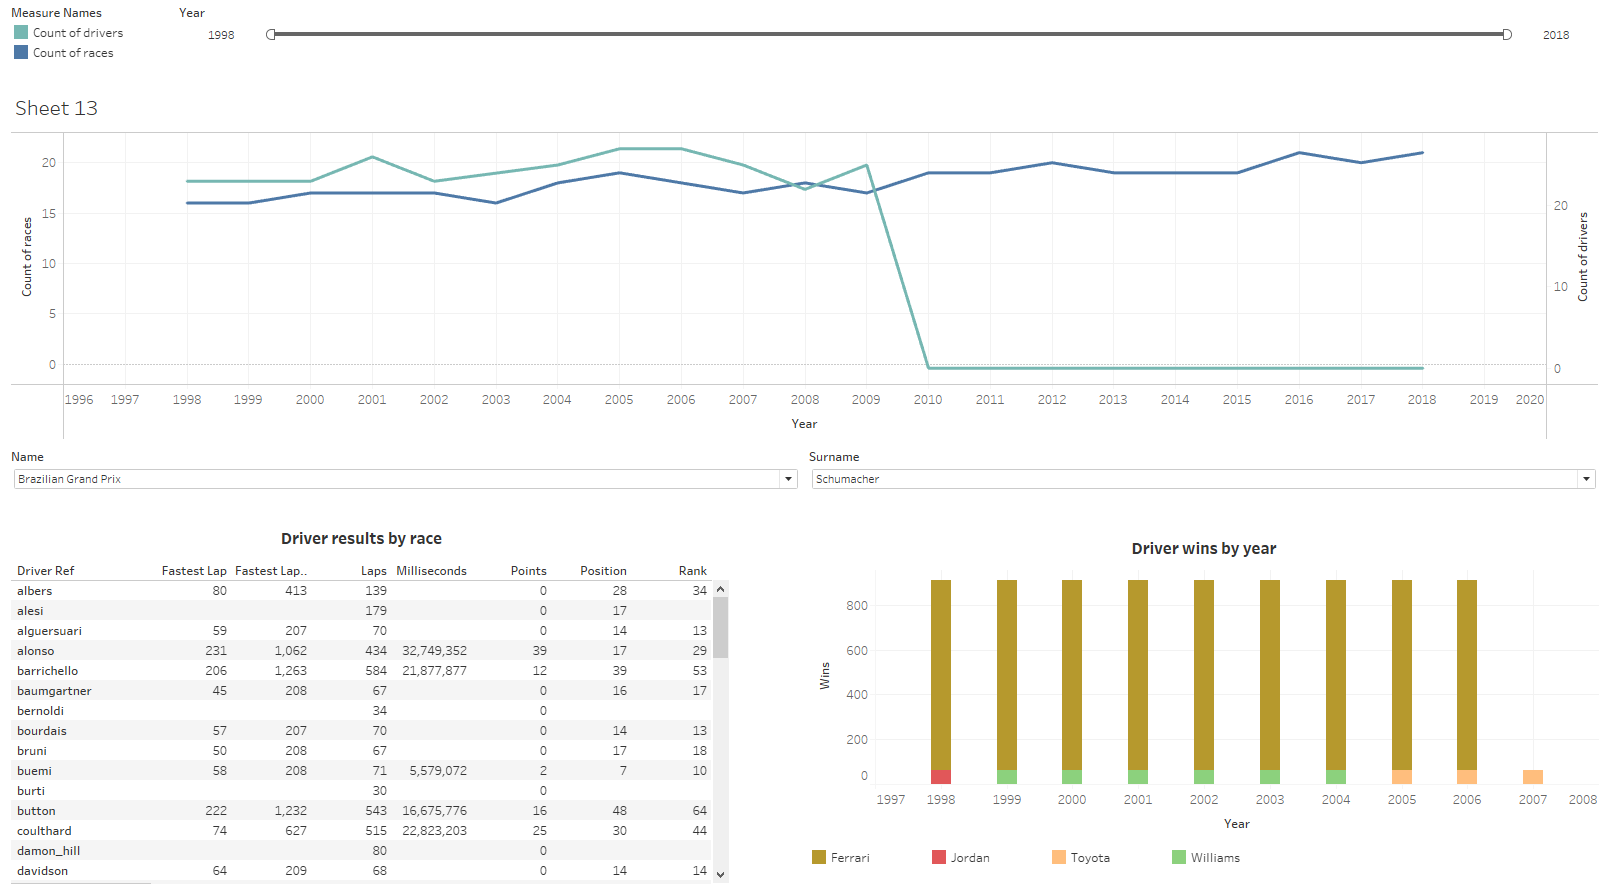

What the dashboard file says about the page in this screenshot:
{"tool":"tableau","page":{"name":"Driver Details","canvas":[1000,1000],"units":"permille","ordinal":2},"visuals":[{"type":"legend","title":"Sheet 13","param":"[federated.1dxn3xd1m3a6sv19biwc20t9l485].[:Measure Names]","box":[5.1,8.8,104.2,94]},{"type":"filter","title":"Sheet 13","param":"[federated.1dxn3xd1m3a6sv19biwc20t9l485].[none:year:qk]","box":[109.2,8.8,885.7,94]},{"type":"worksheet","title":"Sheet 13","mark":"Automatic","rows":["races_E0669E317AAB4FC28C13AFFE63FB9220","drivers_71AE039E2B564C96A3FA26AC88E7A0FC"],"cols":["year"],"box":[5.1,102.8,989.8,397.2]},{"type":"filter","title":"Driver results by race","param":"[federated.1dxn3xd1m3a6sv19biwc20t9l485].[none:name:nk]","box":[5.1,500,494.9,83]},{"type":"filter","title":"Driver wins by year","param":"[federated.1dxn3xd1m3a6sv19biwc20t9l485].[none:surname:nk]","box":[500,500,494.9,94]},{"type":"worksheet","title":"Driver results by race","mark":"Automatic","rows":["surname"],"box":[5.1,583,494.9,408.2]},{"type":"worksheet","title":"Driver wins by year","mark":"Bar","rows":["wins"],"cols":["year"],"box":[500,594,494.9,347.1]},{"type":"legend","title":"Driver wins by year","param":"[federated.1dxn3xd1m3a6sv19biwc20t9l485].[none:name (constructors):nk]","box":[500,941,494.9,50.1]}]}

Visuals, with their boxes on the dashboard's canvas, which has no fixed pixel size, in thousandths of its width and height (x1, y1, x2, y2). These are canvas units, not pixel positions in the 1611x892 screenshot, which may show the page scaled, cropped or inside an application window:
"Sheet 13" legend: detection(5, 9, 109, 103)
"Sheet 13" filter: detection(109, 9, 995, 103)
"Sheet 13" worksheet: detection(5, 103, 995, 500)
"Driver results by race" filter: detection(5, 500, 500, 583)
"Driver wins by year" filter: detection(500, 500, 995, 594)
"Driver results by race" worksheet: detection(5, 583, 500, 991)
"Driver wins by year" worksheet (Bar marks): detection(500, 594, 995, 941)
"Driver wins by year" legend: detection(500, 941, 995, 991)
